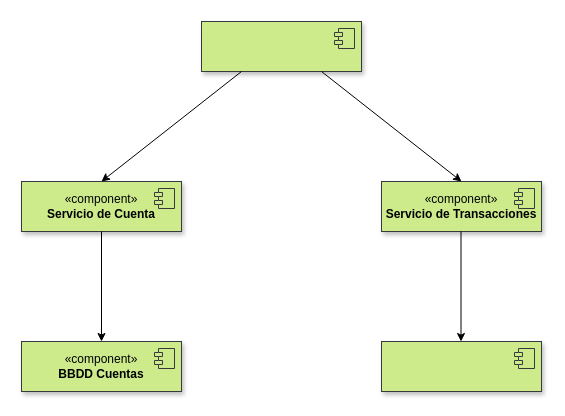
The diagram is 565 pixels wide and 416 high, and some of its shapes have lost their labels. Here are the shapes that lost their labels. From the top down, the centre of each, then its label:
the point at 282,47: «component» Cliente
the point at 462,367: «component» BBDD Transacciones
